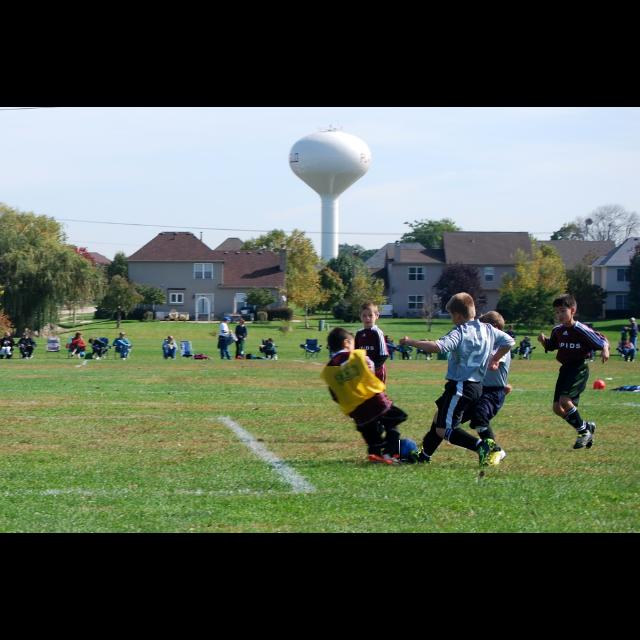Football: (400, 438, 416, 460)
